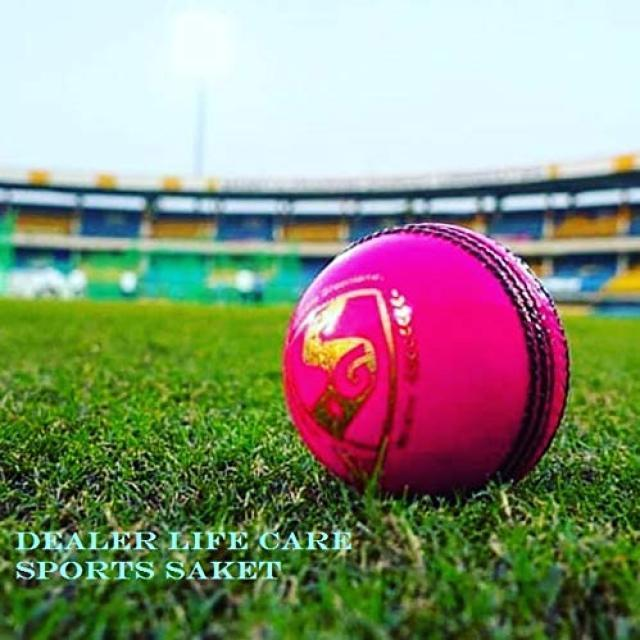cricket ball: (281, 222, 571, 497)
